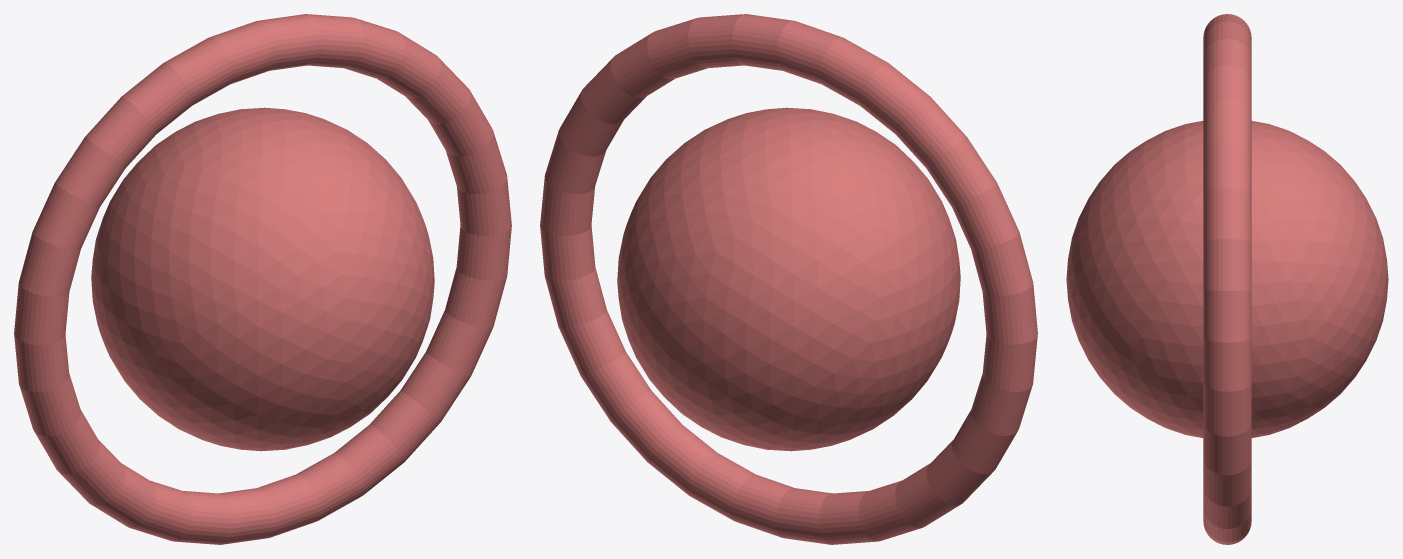
Rendered from creature_6.glb.
3 views of the same model, side by side, from view 1: azimuth 30°, elevation 25°; view 2: azimuth 150°, elevation 25°; view 3: azimuth 270°, elevation 25° (orthographic). The views are drawn at different scales.
Visible parts, largest first — view 1: geometry_0; view 2: geometry_0; view 3: geometry_0.
Boxes of the visible parts, x1,y1,x2,y2 form: geometry_0: (14, 14, 511, 544); geometry_0: (540, 14, 1037, 544); geometry_0: (1066, 14, 1388, 544).
Size of the model in its own units: 3.3 by 3.3 by 2.
